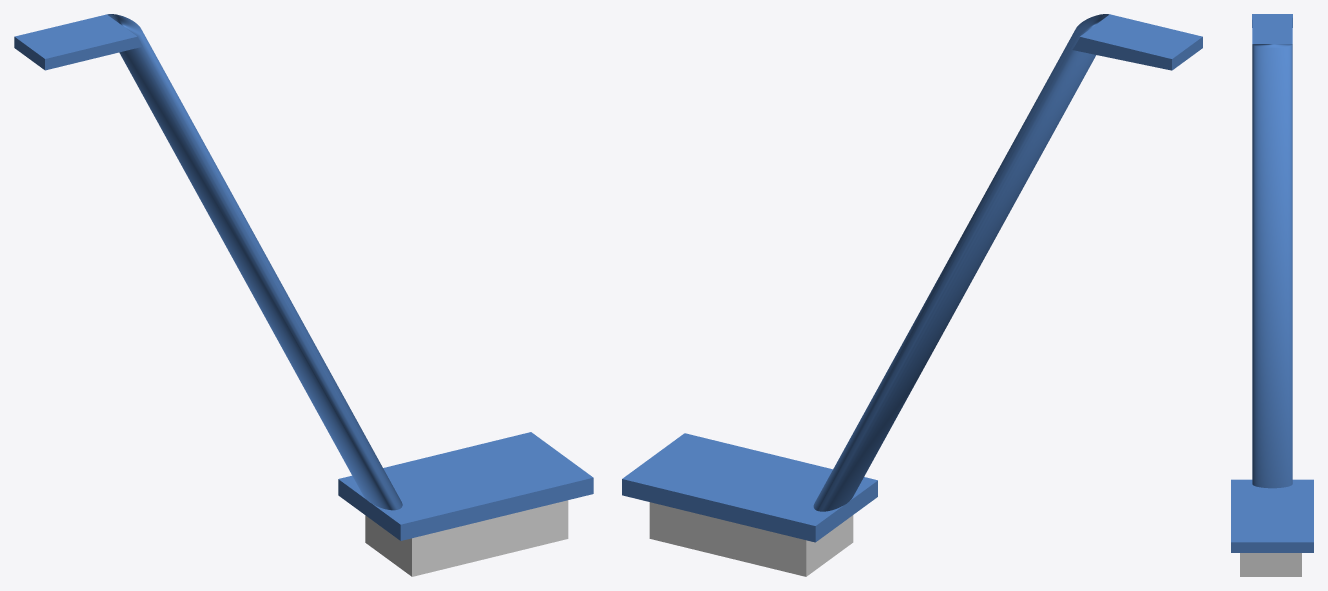
File: brush.fbx
3 renders of one model, left to right at view 1: azimuth 30°, elevation 25°; view 2: azimuth 150°, elevation 25°; view 3: azimuth 270°, elevation 25°, orthographic. The views are drawn at different scales.
Parts seen in each view (by area): view 1: Cylinder; view 2: Cylinder; view 3: Cylinder.
Boxes of the visible parts, x1,y1,x2,y2 form: Cylinder: [14, 14, 593, 576]; Cylinder: [622, 14, 1202, 576]; Cylinder: [1231, 14, 1313, 576].
Bounding box in the file's own units: 403 × 433 × 81.86.
